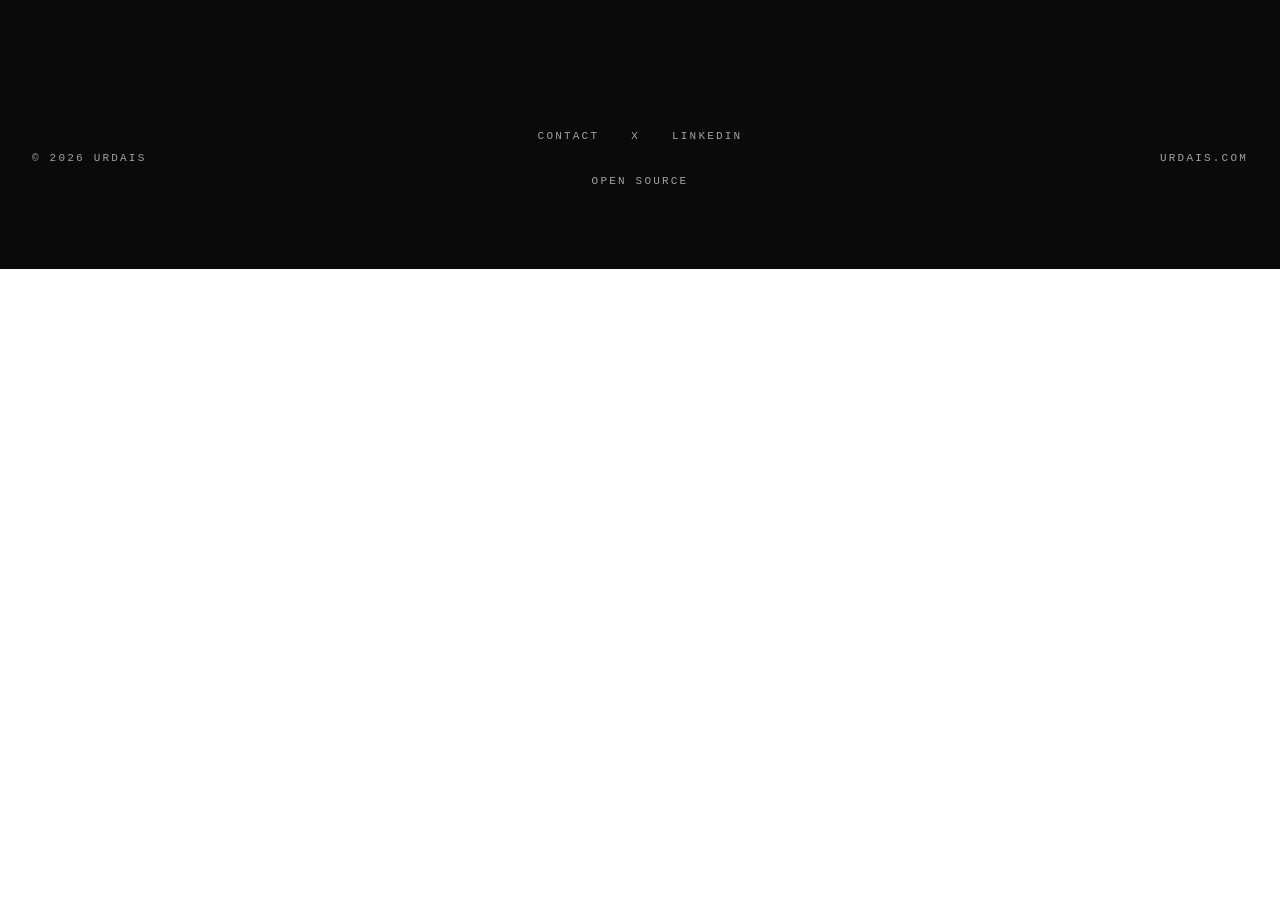
Scenario: ContactModal submission › shows the error on a network failure, and a retry can then succeed
The image size is (1280, 900).
Click the button "Contact" at [568, 136], box 538,128 -> 599,144
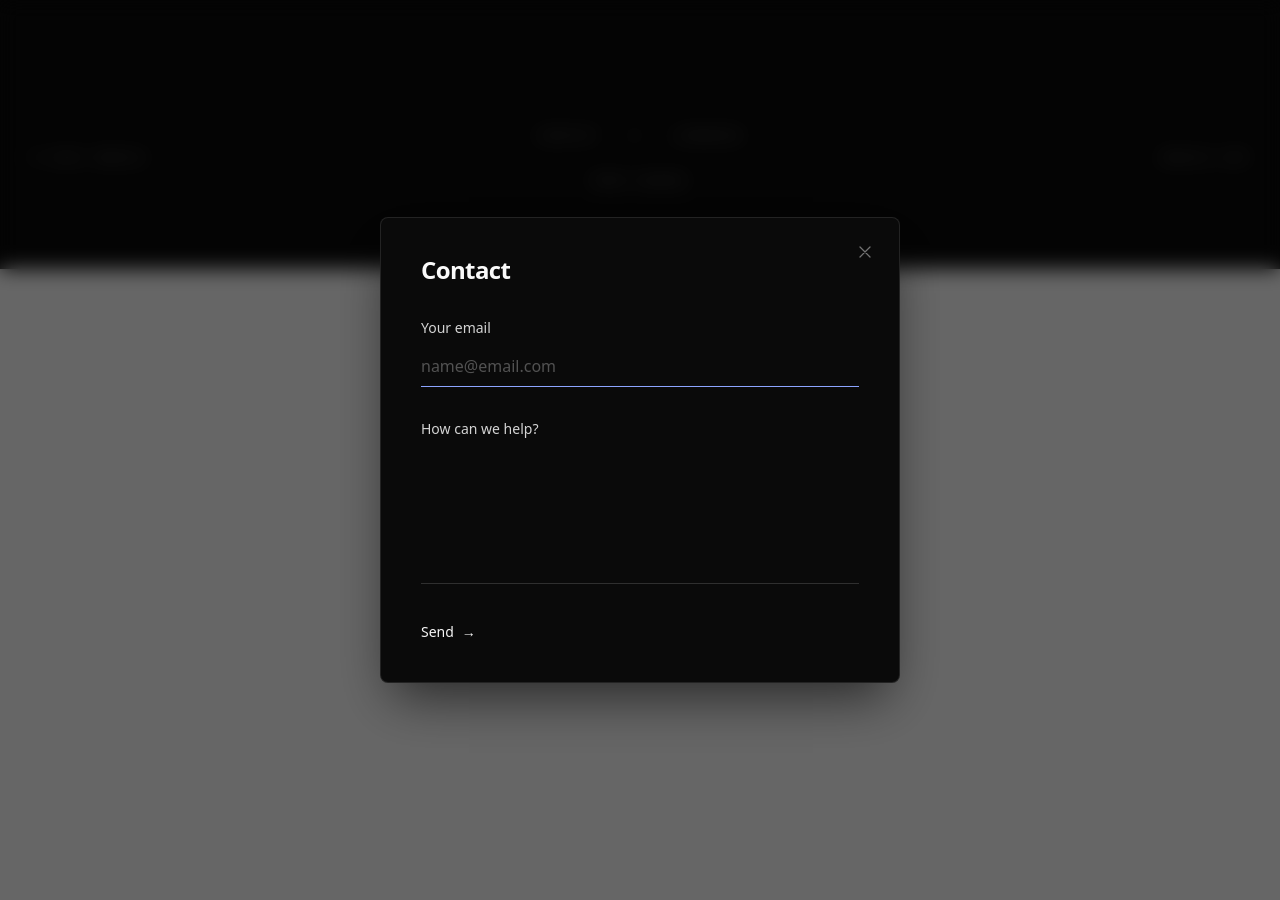
Type "reader@example.com" into the field labelled "Your email" at [640, 366], box 421,346 -> 859,387
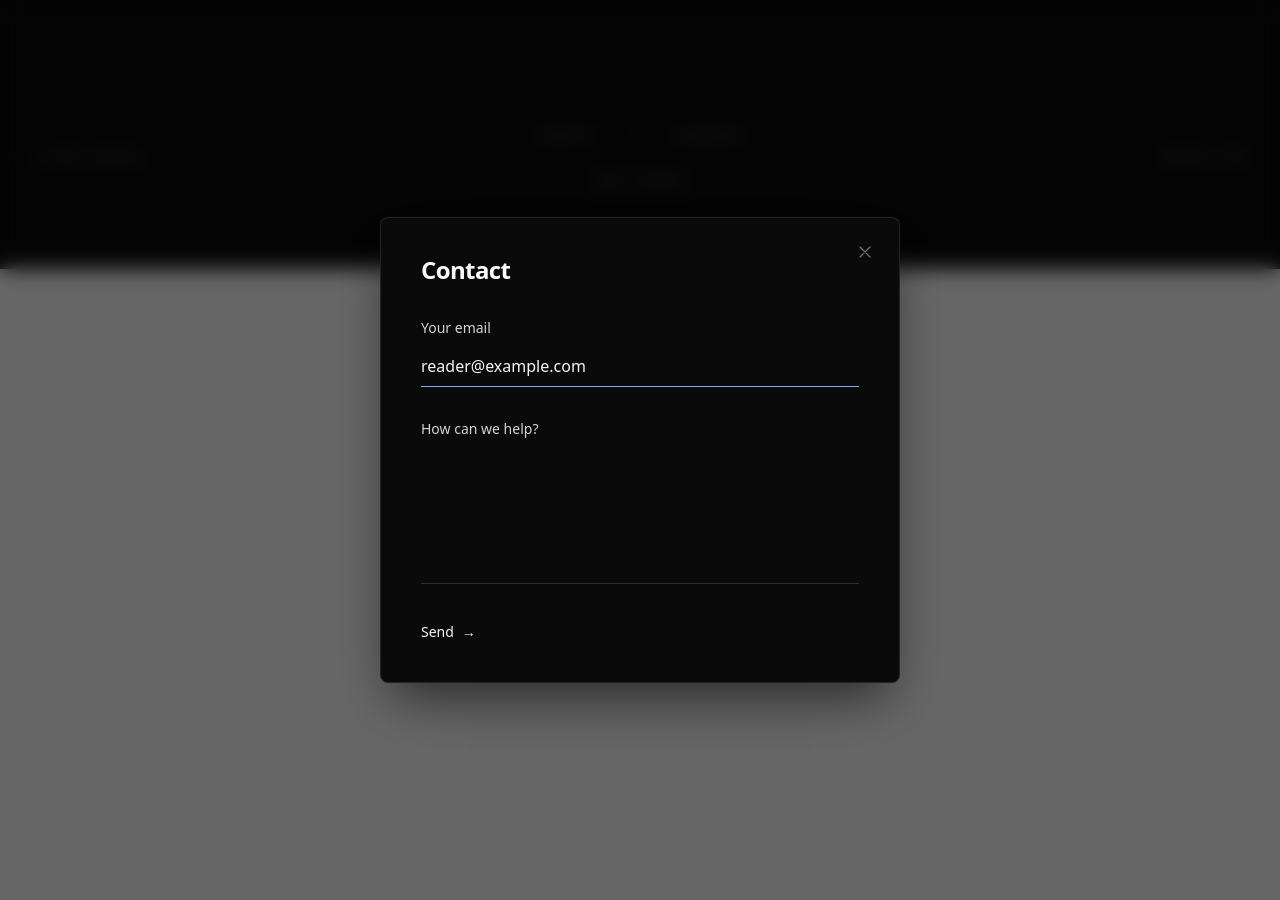
Type "Hello." into the text box labelled "How can we help?" at [640, 516], box 421,447 -> 859,584
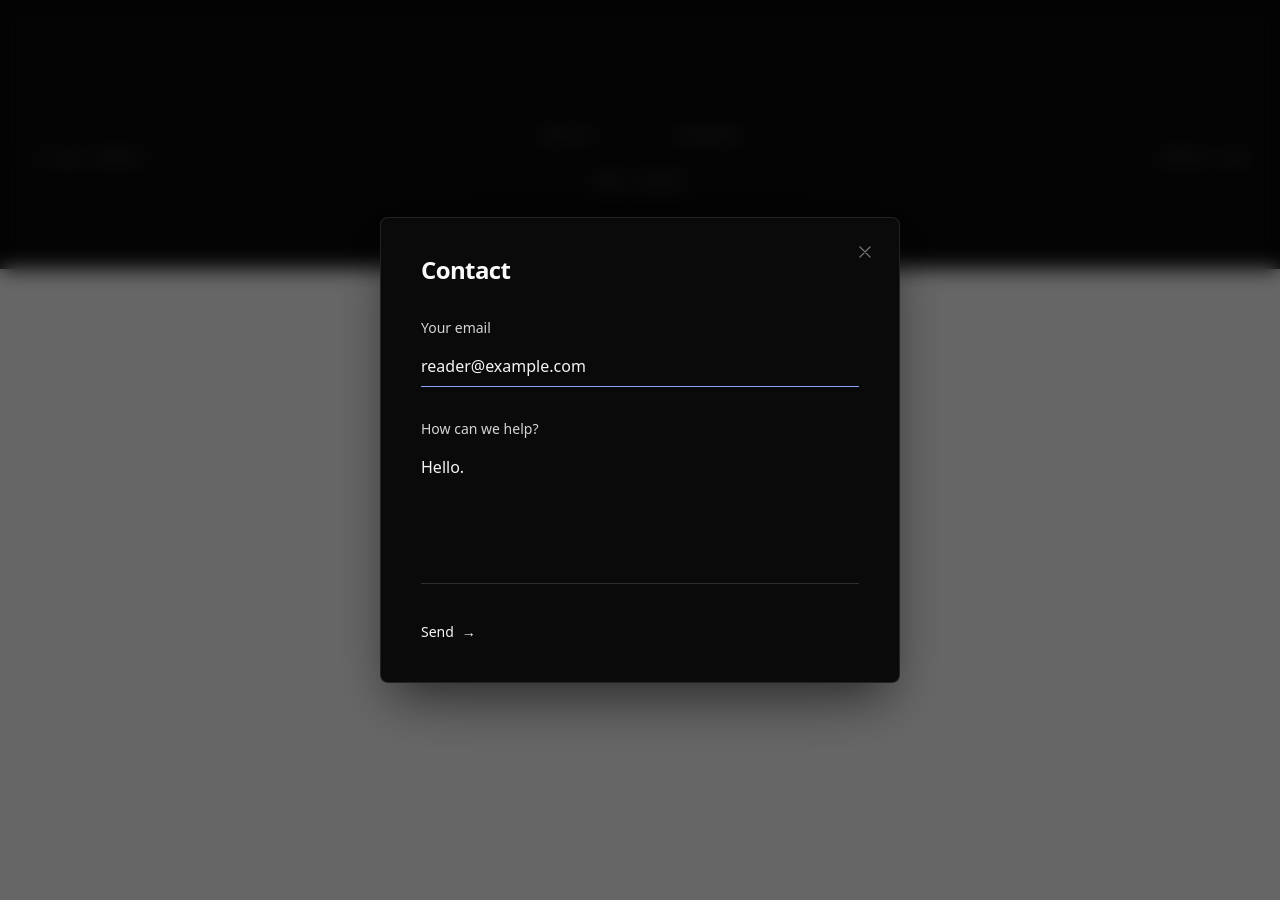
Click the button "Send →" at [448, 632], box 421,622 -> 476,642
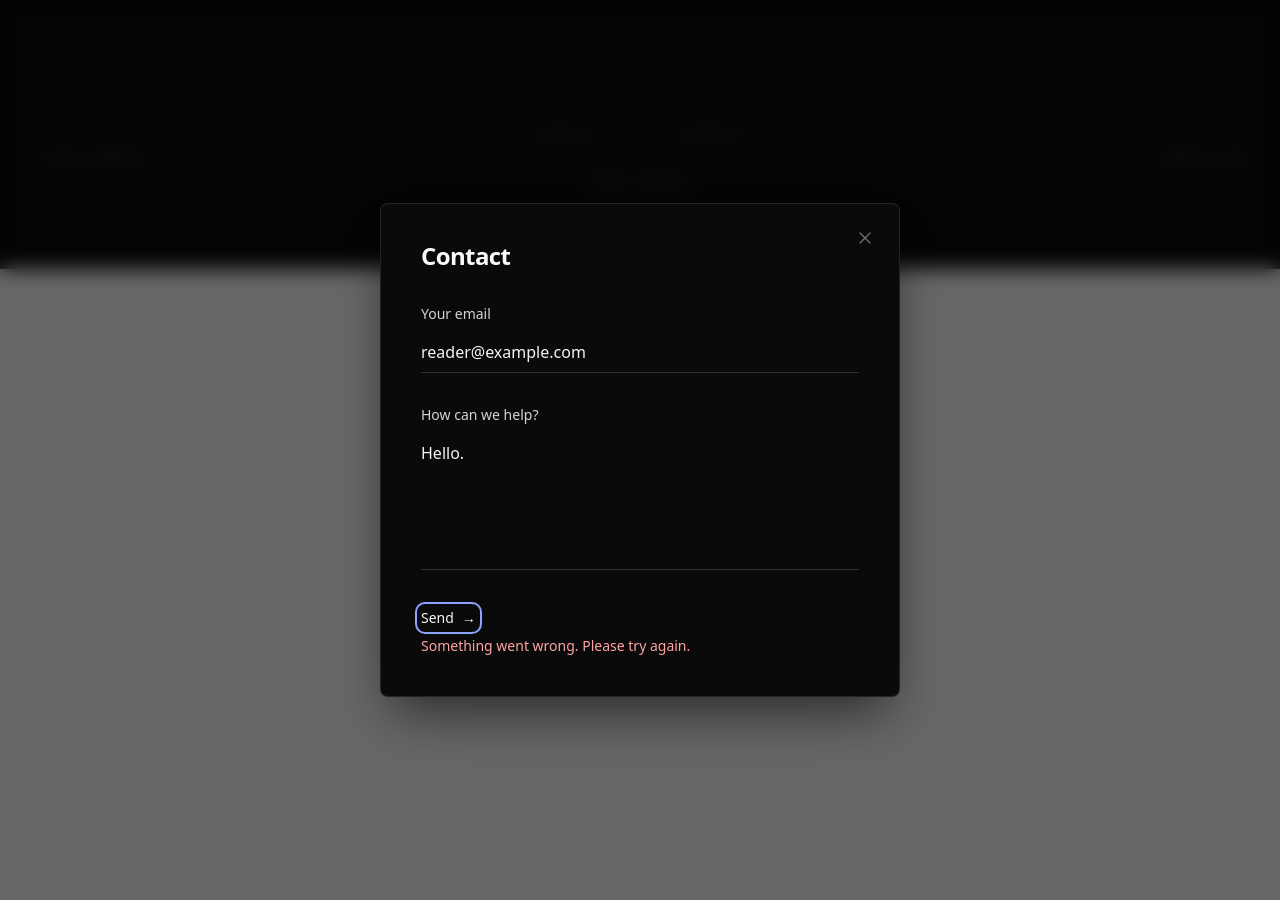
Expected: the message "Something went wrong. Please try again." is shown, 421,636 -> 690,655
Click the button "Send →" at [448, 618], box 421,608 -> 476,628
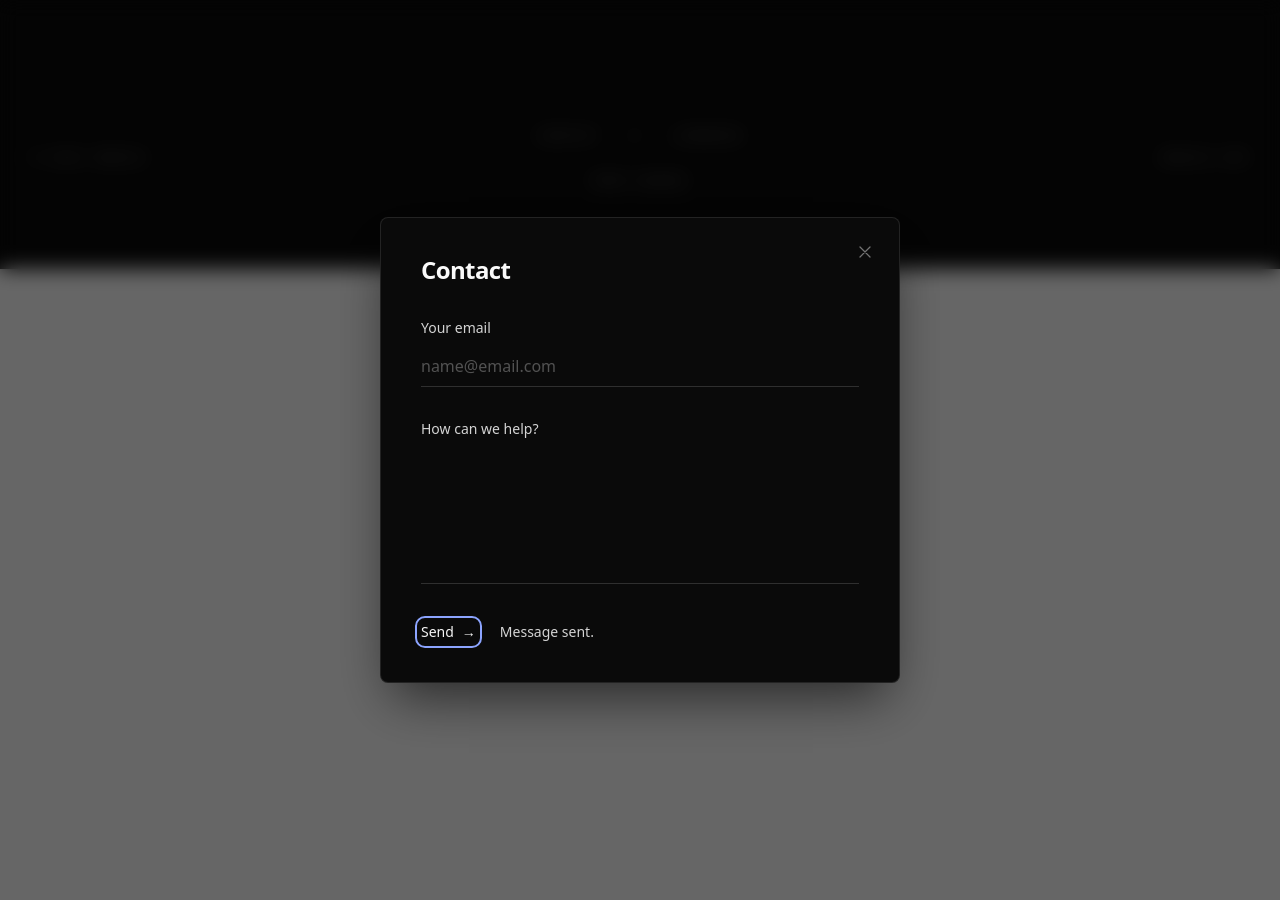
Expected: the message reads "Message sent.", 500,622 -> 594,641
